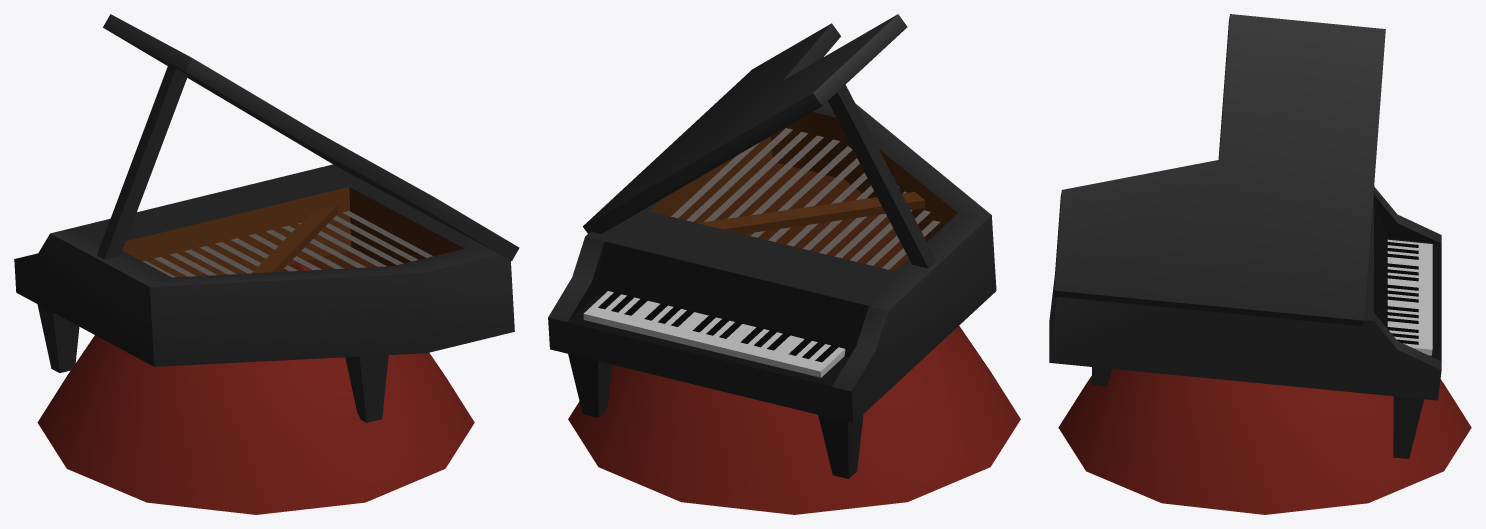
Rendered from hat_piano.glb.
3 renders of one model, left to right at view 1: azimuth 30°, elevation 25°; view 2: azimuth 150°, elevation 25°; view 3: azimuth 270°, elevation 25°, orthographic. The views are drawn at different scales.
Visible parts, largest first — view 1: hat_piano; view 2: hat_piano; view 3: hat_piano.
Part boxes in pixels (x1,y1,x2,y2): hat_piano: (14,14,519,514); hat_piano: (548,14,1020,514); hat_piano: (1049,14,1471,514).
Size of the model in its own units: 0.3926 by 0.394 by 0.4013.
